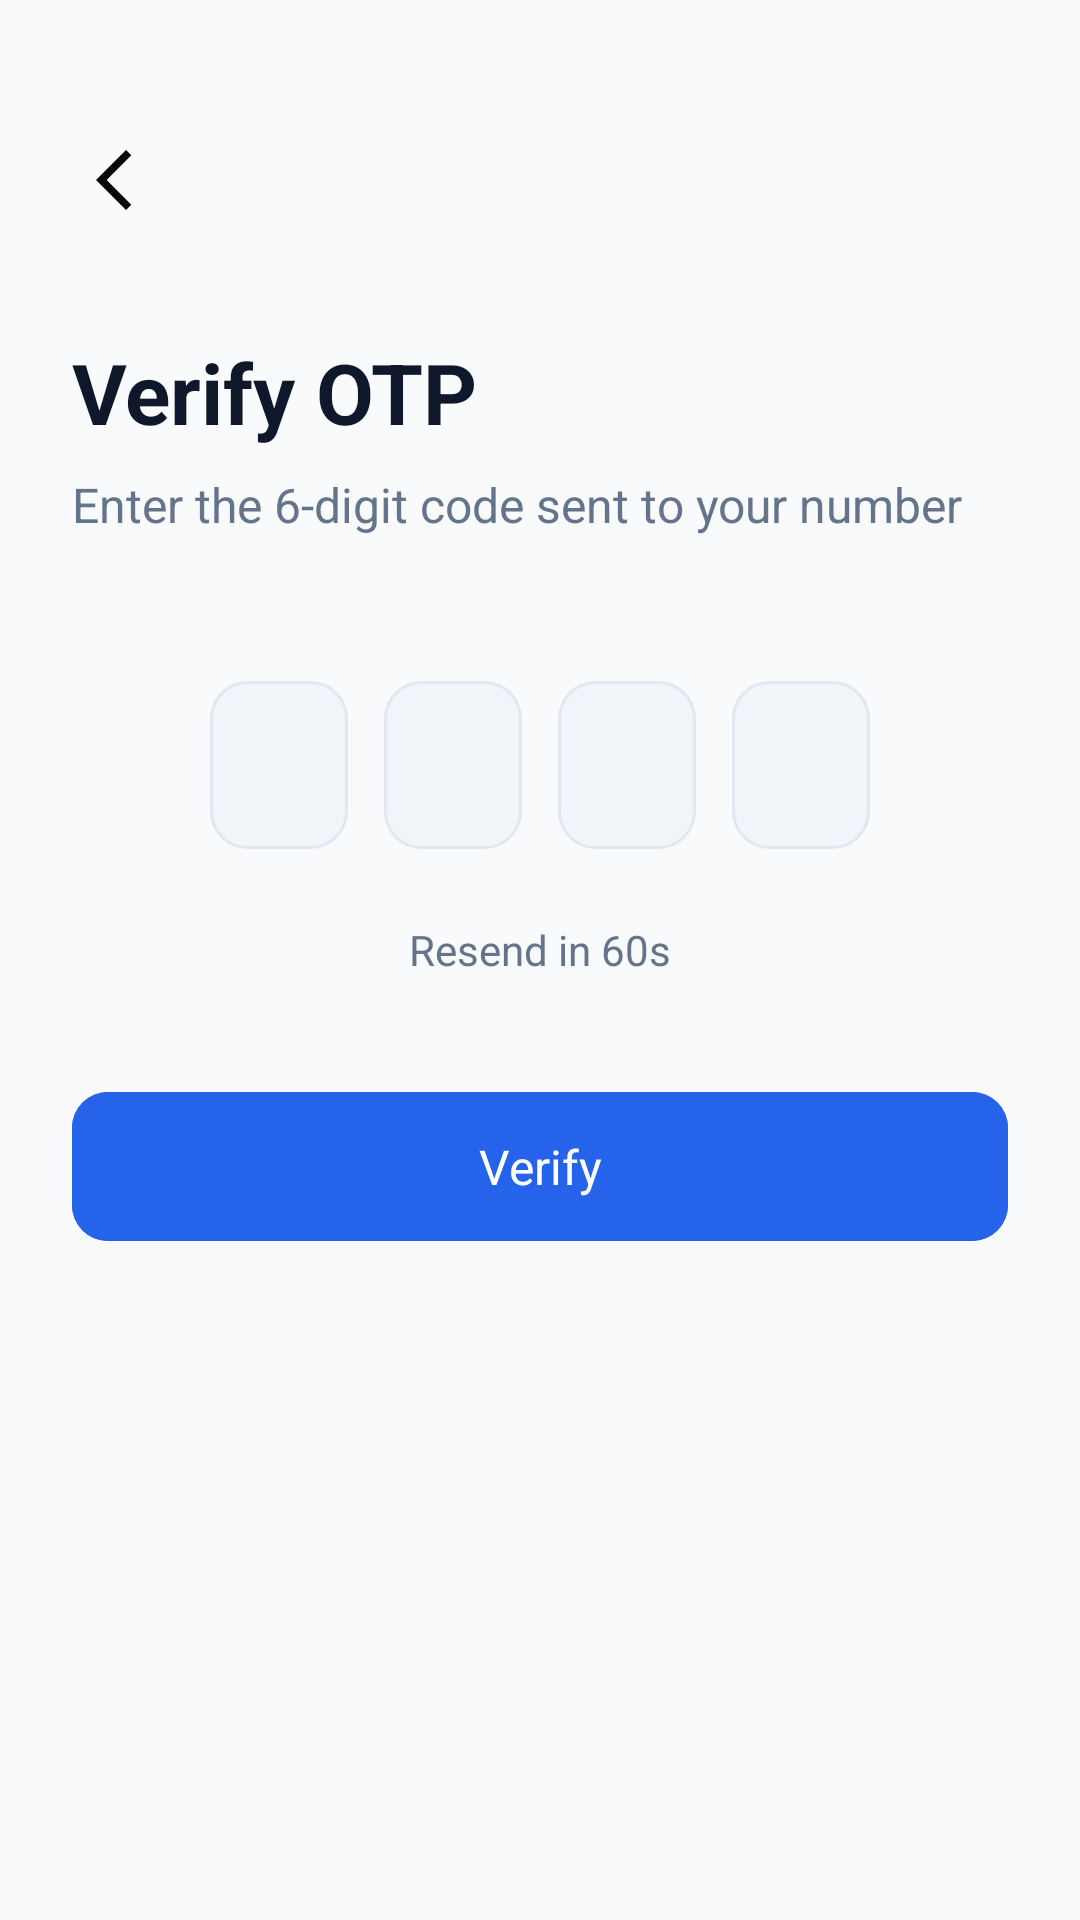

Named icons in this screenshot (1080x1920) and their bounding boxes, {"left": x1, "top": y1, "right": x2, "bottom": y2}:
Back: {"left": 96, "top": 150, "right": 131, "bottom": 210}
